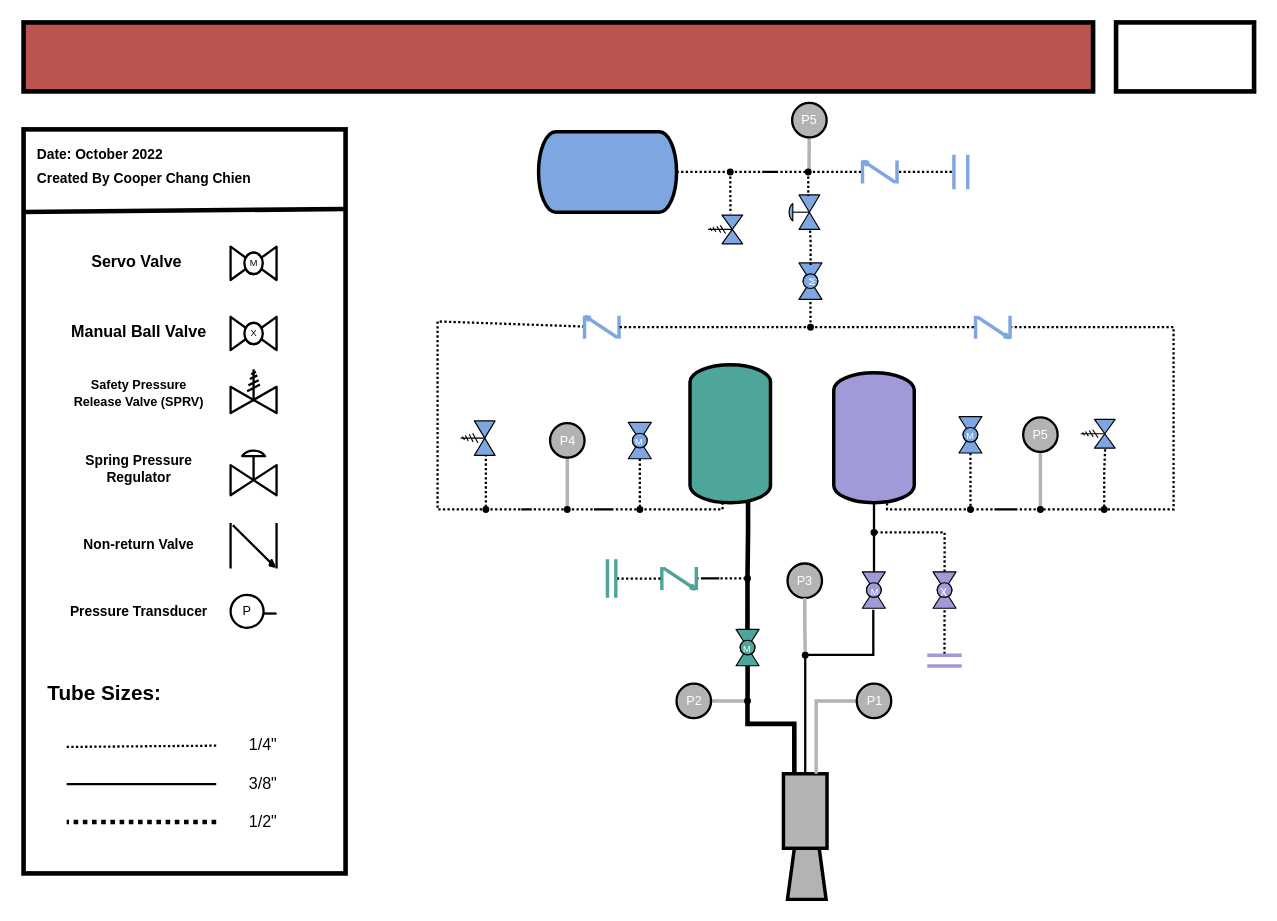
Some shapes in this 1277 by 921 pixel diagram are drawn without their labels. Each missing label, with the centre of its shape:
IPA: the point at 873,437
N2: the point at 607,171
N2O: the point at 730,433
Nitrogen Pressurised Liquid Bi-propellant P&ID: the point at 558,56
V3.5: the point at 1184,56
